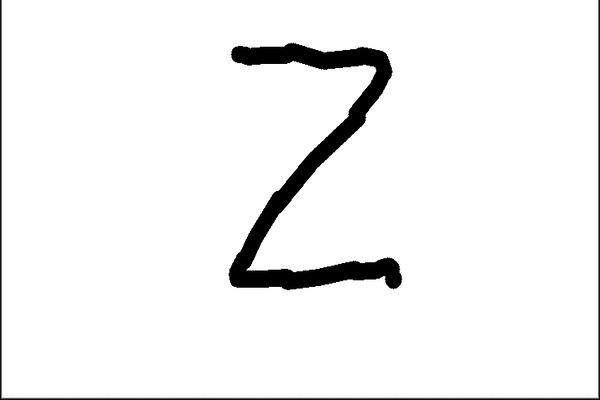Z: (221, 29, 418, 299)
